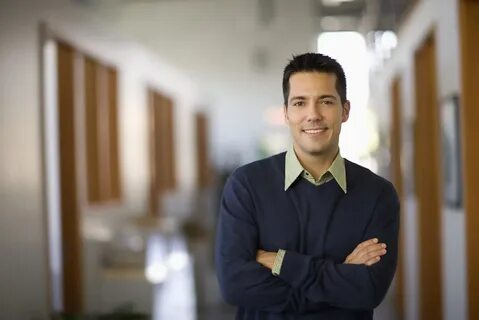awake: (211, 51, 401, 320)
